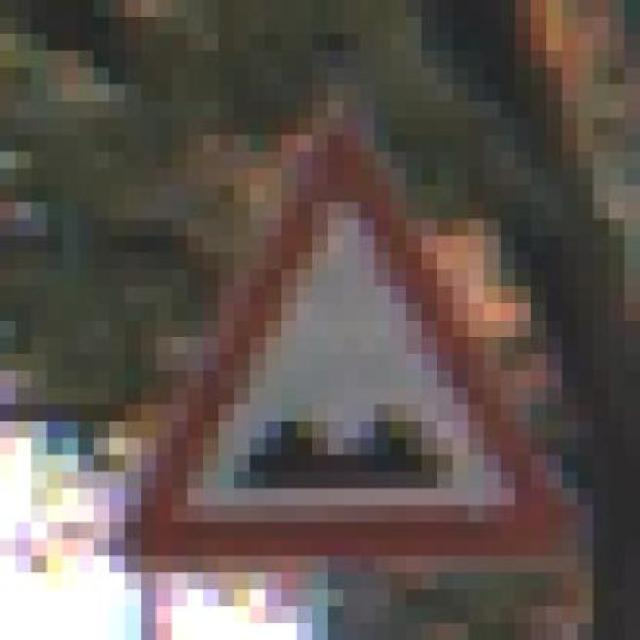Uneven Road: (78, 118, 593, 573)
